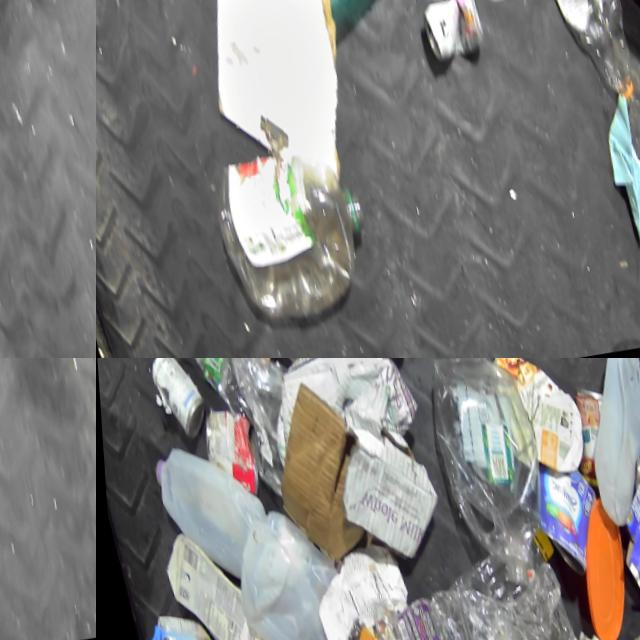can: (522, 455, 609, 578), (191, 400, 265, 500), (555, 379, 619, 488), (140, 358, 207, 442), (410, 0, 483, 59), (622, 451, 640, 484)
milk_jug: (142, 432, 275, 588), (212, 498, 357, 640), (149, 517, 283, 640), (555, 358, 640, 524)
non_white_jug: (413, 358, 561, 591), (481, 358, 588, 480), (298, 538, 417, 640), (594, 428, 640, 640)
plastic_bottle: (196, 139, 379, 330), (523, 0, 638, 107), (165, 358, 236, 411)
